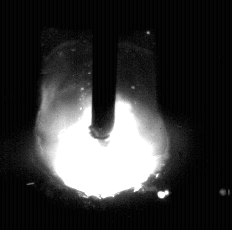arame: (92, 0, 116, 139)
poca: (34, 0, 170, 230)
